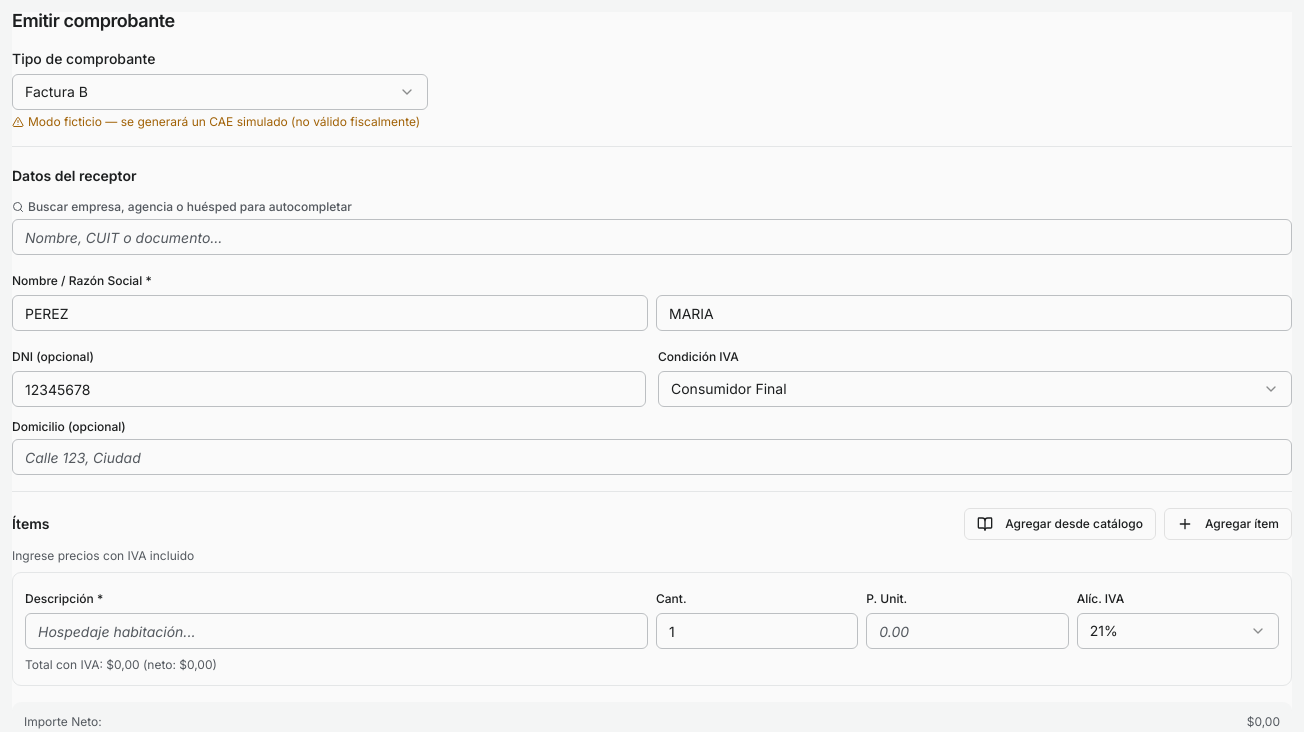
EmitirFacturaDialog — anticipo de reserva a nombre del huésped › el buscador de huésped funciona sin requireLinkedRecipient
Step 1. Type "maria" into the field with test id "input-entity-search" → (652, 237), box [12,219,1292,255]
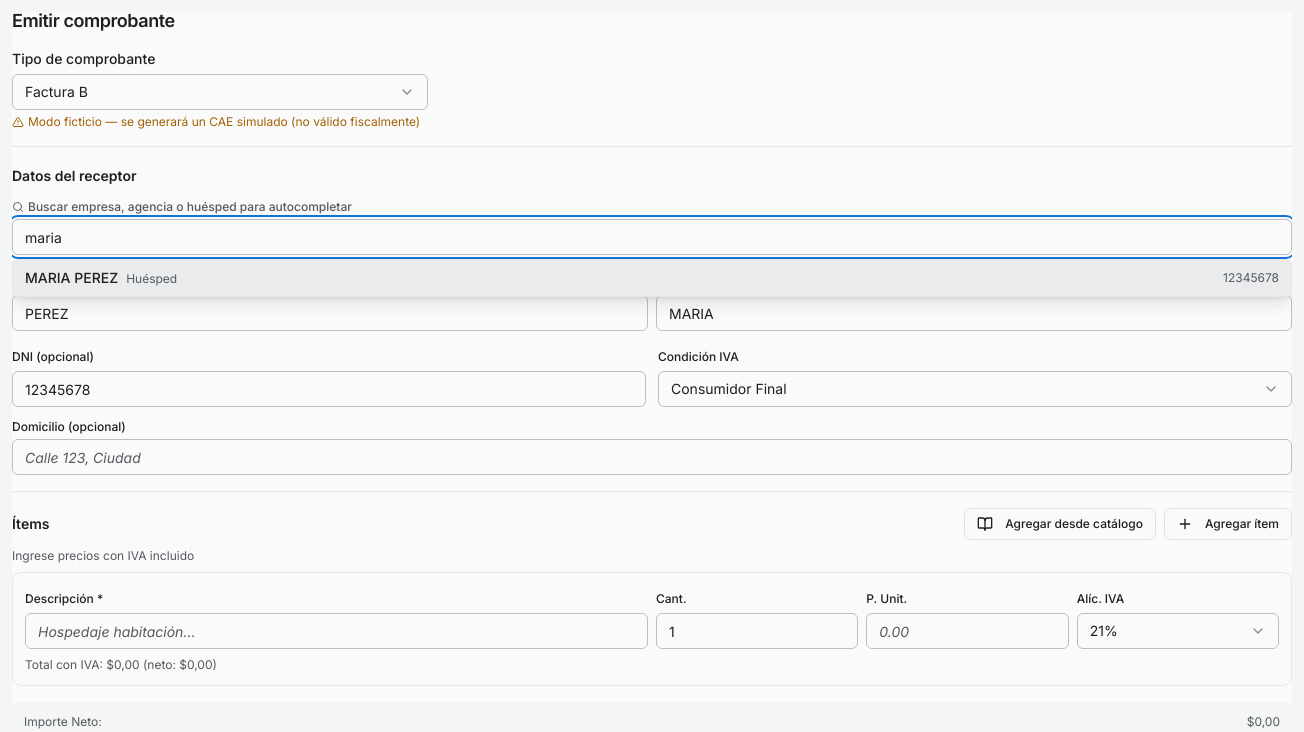
Now the text "MARIA PEREZ" is shown, box [25,269,118,286]
